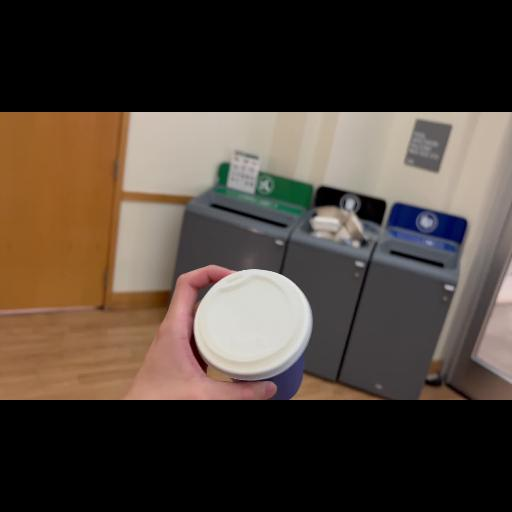lp_paper_cup: (192, 267, 314, 399)
